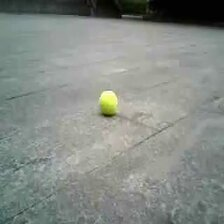tennis: (99, 92, 119, 114)
